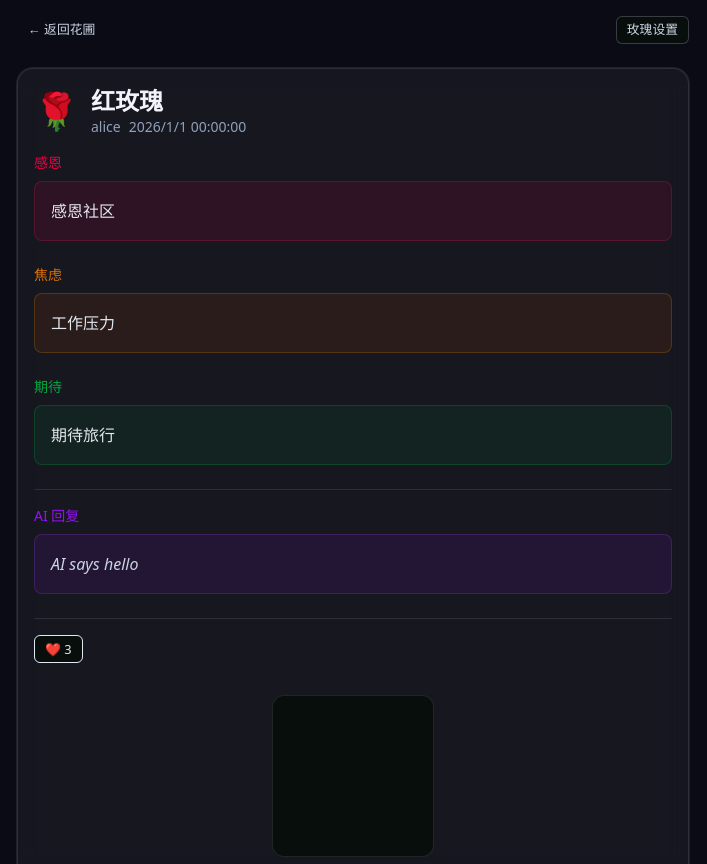
Test case: RoseDetailPage › submits a post-plant gift and updates the UI
The width and height of the screenshot is (707, 864).
Click the button "玫瑰设置" at (652, 30), box 616,16 -> 689,44
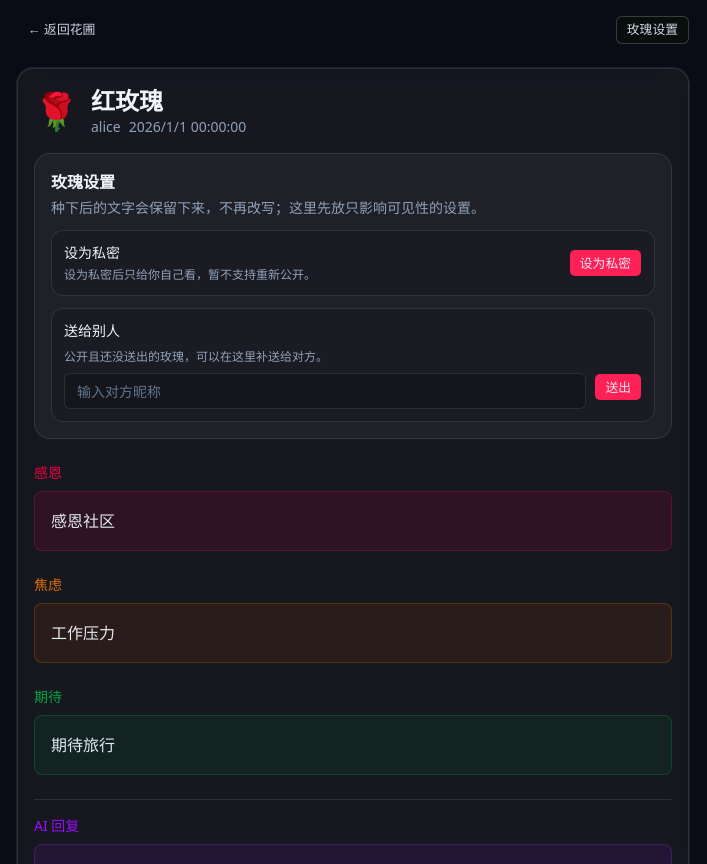
Type " 小花 " into the field with placeholder "输入对方昵称" at (325, 391), box 64,373 -> 586,409
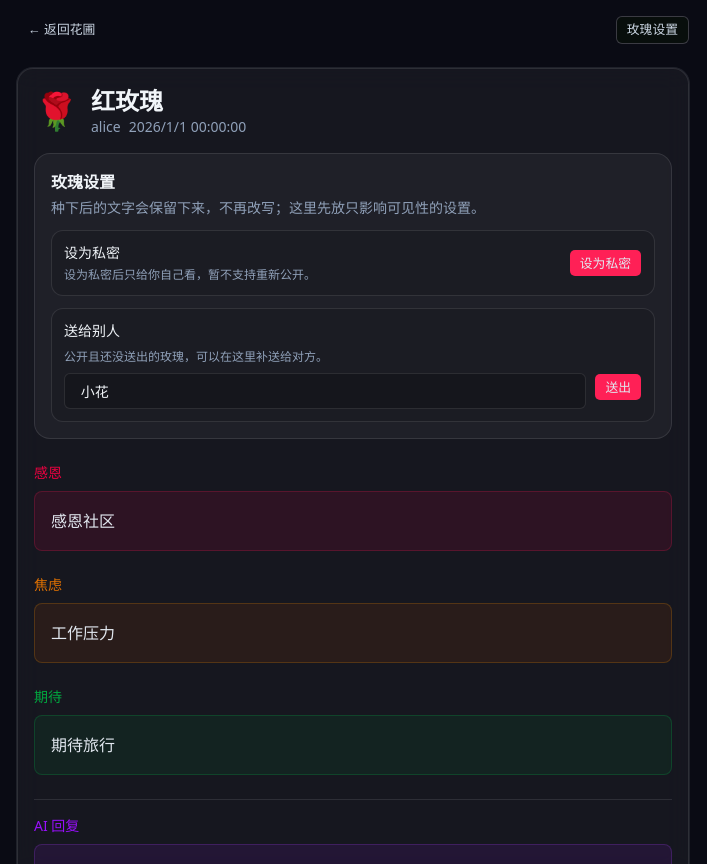
Click the button "送出" at (618, 387), box 594,373 -> 642,401
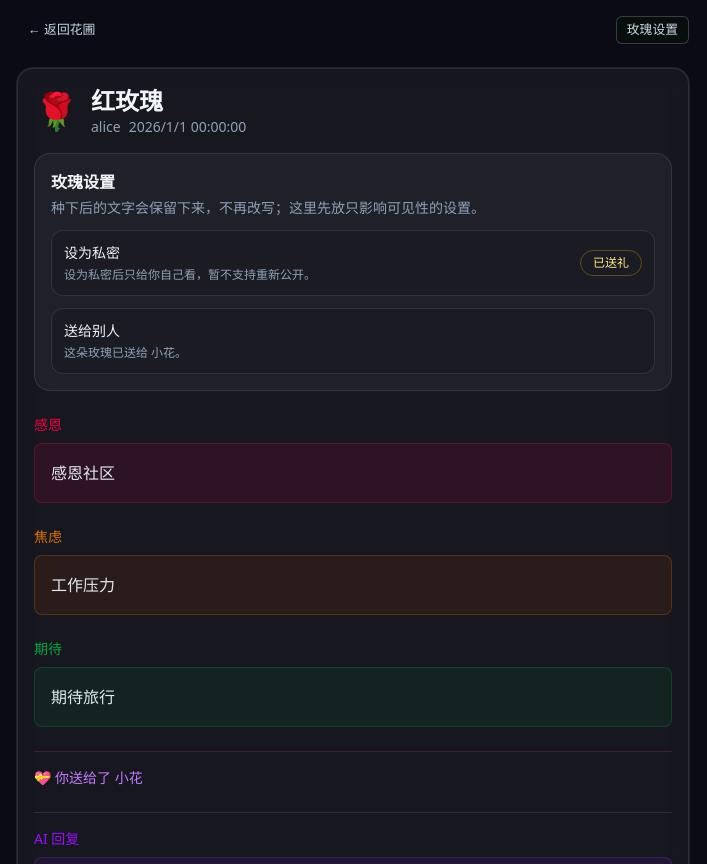
Now the text "这朵玫瑰已送给 小花。" is shown, box 64,344 -> 187,361
